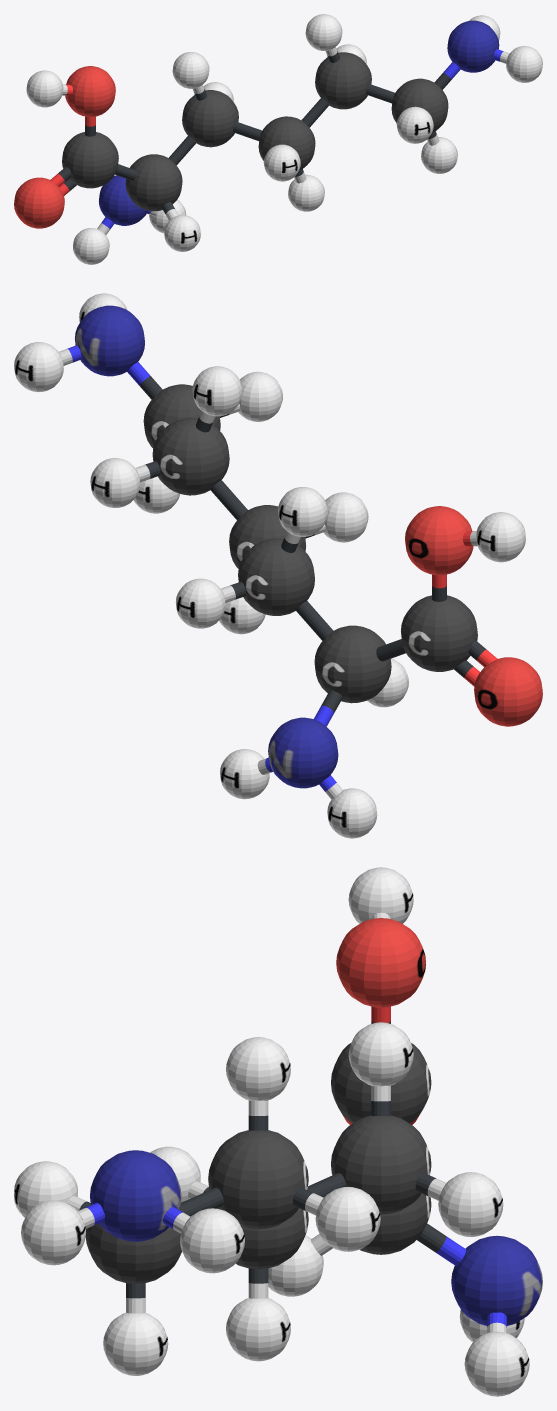
Rendered from Leucina.fbx.
3 renders of one model, top to bottom at view 1: azimuth 30°, elevation 25°; view 2: azimuth 150°, elevation 25°; view 3: azimuth 270°, elevation 25°, orthographic. The views are drawn at different scales.
Visible parts, largest first — view 1: Leucina; view 2: Leucina; view 3: Leucina.
Boxes of the visible parts, x1,y1,x2,y2 form: Leucina: (14,14,542,264); Leucina: (14,293,542,838); Leucina: (14,867,542,1396).
Size of the model in its own units: 26.64 by 15.04 by 16.08.
Materials: 8 (4 with a texture image).
